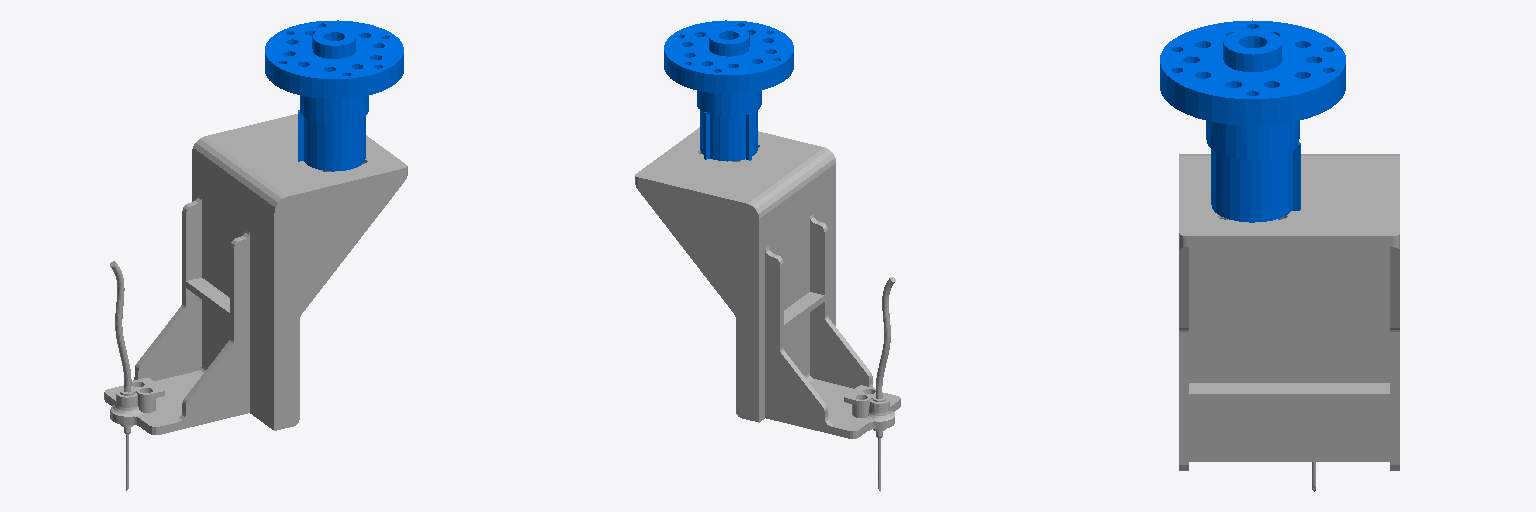
robot.urdf — Assy-Arm-R9:
<?xml version="1.0" encoding="utf-8"?>
<!-- This URDF was automatically created by SolidWorks to URDF Exporter! Originally created by [author] ([email redacted]) 
     Commit Version: 1.6.0-4-g7f85cfe  Build Version: 1.6.7995.38578
     For more information, please see http://wiki.ros.org/sw_urdf_exporter -->
<robot
  name="Assy-Arm-R9">
  <link
    name="Baselink">
    <inertial>
      <origin
        xyz="6.02984039890645E-05 -0.00347531736397777 0.0573590161221855"
        rpy="0 0 0" />
      <mass
        value="0.92291766365822" />
      <inertia
        ixx="0.000889355893817105"
        ixy="2.30285761501176E-06"
        ixz="-1.69735343493246E-06"
        iyy="0.000803534344884723"
        iyz="-7.28407364835707E-06"
        izz="0.000817894490834363" />
    </inertial>
    <visual>
      <origin
        xyz="0 0 0"
        rpy="0 0 0" />
      <geometry>
        <mesh
          filename="package://Assy-Arm-R9/meshes/Baselink.STL" />
      </geometry>
      <material
        name="">
        <color
          rgba="0.752941176470588 0.752941176470588 0.752941176470588 1" />
      </material>
    </visual>
    <collision>
      <origin
        xyz="0 0 0"
        rpy="0 0 0" />
      <geometry>
        <mesh
          filename="package://Assy-Arm-R9/meshes/Baselink.STL" />
      </geometry>
    </collision>
  </link>
  <link
    name="Link_1">
    <inertial>
      <origin
        xyz="-1.02244608118643E-06 0.00112007948225612 0.0204998303580782"
        rpy="0 0 0" />
      <mass
        value="0.382058624778773" />
      <inertia
        ixx="0.000349750409666344"
        ixy="4.3880466277339E-08"
        ixz="-1.566462590951E-08"
        iyy="0.000409993912478931"
        iyz="8.4435983743781E-07"
        izz="0.000385437259055181" />
    </inertial>
    <visual>
      <origin
        xyz="0 0 0"
        rpy="0 0 0" />
      <geometry>
        <mesh
          filename="package://Assy-Arm-R9/meshes/Link_1.STL" />
      </geometry>
      <material
        name="">
        <color
          rgba="0.752941176470588 0.752941176470588 0.752941176470588 1" />
      </material>
    </visual>
    <collision>
      <origin
        xyz="0 0 0"
        rpy="0 0 0" />
      <geometry>
        <mesh
          filename="package://Assy-Arm-R9/meshes/Link_1.STL" />
      </geometry>
    </collision>
  </link>
  <joint
    name="joint1"
    type="revolute">
    <origin
      xyz="0 0 0.118080000000464"
      rpy="0 0 0" />
    <parent
      link="Baselink" />
    <child
      link="Link_1" />
    <axis
      xyz="0 0 1" />
    <limit
      lower="-3.054"
      upper="3.054"
      effort="18"
      velocity="3.5" />
  </joint>
  <link
    name="Link2">
    <inertial>
      <origin
        xyz="-0.000854665968855167 0.0290011119842195 0.00276923551752536"
        rpy="0 0 0" />
      <mass
        value="1.26341938174547" />
      <inertia
        ixx="0.00253366296445769"
        ixy="-1.0594565225767E-05"
        ixz="3.52239486657366E-06"
        iyy="0.000863914704220155"
        iyz="1.99537985494069E-05"
        izz="0.00287591504435729" />
    </inertial>
    <visual>
      <origin
        xyz="0 0 0"
        rpy="0 0 0" />
      <geometry>
        <mesh
          filename="package://Assy-Arm-R9/meshes/Link2.STL" />
      </geometry>
      <material
        name="">
        <color
          rgba="0.752941176470588 0.752941176470588 0.752941176470588 1" />
      </material>
    </visual>
    <collision>
      <origin
        xyz="0 0 0"
        rpy="0 0 0" />
      <geometry>
        <mesh
          filename="package://Assy-Arm-R9/meshes/Link2.STL" />
      </geometry>
    </collision>
  </link>
  <joint
    name="Joint2"
    type="revolute">
    <origin
      xyz="0 0 0.0477999999999999"
      rpy="1.5707963267949 0 0" />
    <parent
      link="Link_1" />
    <child
      link="Link2" />
    <axis
      xyz="0 0 1" />
    <limit
      lower="-1.4835"
      upper="1.4835"
      effort="18"
      velocity="3.5" />
  </joint>
  <link
    name="Link3">
    <inertial>
      <origin
        xyz="0.0441755762110513 -0.00300061453468439 0.00125517691776518"
        rpy="0 0 0" />
      <mass
        value="1.79634044285213" />
      <inertia
        ixx="0.00131750270771557"
        ixy="0.00012630708992994"
        ixz="0.000110559022367037"
        iyy="0.00215743063076519"
        iyz="-2.63185424659225E-05"
        izz="0.00218419879727998" />
    </inertial>
    <visual>
      <origin
        xyz="0 0 0"
        rpy="0 0 0" />
      <geometry>
        <mesh
          filename="package://Assy-Arm-R9/meshes/Link3.STL" />
      </geometry>
      <material
        name="">
        <color
          rgba="0.752941176470588 0.752941176470588 0.752941176470588 1" />
      </material>
    </visual>
    <collision>
      <origin
        xyz="0 0 0"
        rpy="0 0 0" />
      <geometry>
        <mesh
          filename="package://Assy-Arm-R9/meshes/Link3.STL" />
      </geometry>
    </collision>
  </link>
  <joint
    name="joint3"
    type="revolute">
    <origin
      xyz="0 0.136682791981321 0"
      rpy="0 0 1.5707963267949" />
    <parent
      link="Link2" />
    <child
      link="Link3" />
    <axis
      xyz="0 0 1" />
    <limit
      lower="-1.2217"
      upper="2.0944"
      effort="18"
      velocity="3.5" />
  </joint>
  <link
    name="Link4">
    <inertial>
      <origin
        xyz="1.03025769054854E-06 -0.00112007725301299 0.020499830358078"
        rpy="0 0 0" />
      <mass
        value="0.382058624778772" />
      <inertia
        ixx="0.000349750409666343"
        ixy="4.38804662770973E-08"
        ixz="1.56674497381816E-08"
        iyy="0.000409993912478931"
        iyz="-8.44351800969626E-07"
        izz="0.000385437259055179" />
    </inertial>
    <visual>
      <origin
        xyz="0 0 0"
        rpy="0 0 0" />
      <geometry>
        <mesh
          filename="package://Assy-Arm-R9/meshes/Link4.STL" />
      </geometry>
      <material
        name="">
        <color
          rgba="0.752941176470588 0.752941176470588 0.752941176470588 1" />
      </material>
    </visual>
    <collision>
      <origin
        xyz="0 0 0"
        rpy="0 0 0" />
      <geometry>
        <mesh
          filename="package://Assy-Arm-R9/meshes/Link4.STL" />
      </geometry>
    </collision>
  </link>
  <joint
    name="Joint4"
    type="revolute">
    <origin
      xyz="0.0882999999999411 -0.0610999999999994 0"
      rpy="1.5707963267949 0 0" />
    <parent
      link="Link3" />
    <child
      link="Link4" />
    <axis
      xyz="0 0 1" />
    <limit
      lower="-3.0543"
      upper="3.0543"
      effort="18"
      velocity="3.5" />
  </joint>
  <link
    name="Link5">
    <inertial>
      <origin
        xyz="-0.00300061446036065 -0.044175576392248 0.00125517686079486"
        rpy="0 0 0" />
      <mass
        value="1.79634045496723" />
      <inertia
        ixx="0.00215743060668843"
        ixy="-0.000126307095721348"
        ixz="-2.63185334804151E-05"
        iyy="0.0013175027320031"
        iyz="-0.000110559009407506"
        izz="0.00218419879908848" />
    </inertial>
    <visual>
      <origin
        xyz="0 0 0"
        rpy="0 0 0" />
      <geometry>
        <mesh
          filename="package://Assy-Arm-R9/meshes/Link5.STL" />
      </geometry>
      <material
        name="">
        <color
          rgba="0.752941176470588 0.752941176470588 0.752941176470588 1" />
      </material>
    </visual>
    <collision>
      <origin
        xyz="0 0 0"
        rpy="0 0 0" />
      <geometry>
        <mesh
          filename="package://Assy-Arm-R9/meshes/Link5.STL" />
      </geometry>
    </collision>
  </link>
  <joint
    name="Joint5"
    type="revolute">
    <origin
      xyz="0 0 0.0478"
      rpy="-1.5708 0 0" />
    <parent
      link="Link4" />
    <child
      link="Link5" />
    <axis
      xyz="0 0 1" />
    <limit
      lower="-1.4835"
      upper="1.4835"
      effort="18"
      velocity="3.15" />
  </joint>
  <link
    name="Link6">
    <inertial>
      <origin
        xyz="-4.37465252269009E-05 8.58573912293254E-05 0.0212480282420243"
        rpy="0 0 0" />
      <mass
        value="0.0968639400304875" />
      <inertia
        ixx="1.41848026011587E-05"
        ixy="4.46246764635625E-16"
        ixz="3.55145625116609E-20"
        iyy="1.42612360613091E-05"
        iyz="5.14387944202092E-20"
        izz="1.00976973694868E-05" />
    </inertial>
    <visual>
      <origin
        xyz="0 0 0"
        rpy="0 0 0" />
      <geometry>
        <mesh
          filename="package://Assy-Arm-R9/meshes/Link6.STL" />
      </geometry>
      <material
        name="">
        <color
          rgba="0 0.501960784313725 1 1" />
      </material>
    </visual>
    <collision>
      <origin
        xyz="0 0 0"
        rpy="0 0 0" />
      <geometry>
        <mesh
          filename="package://Assy-Arm-R9/meshes/Link6.STL" />
      </geometry>
    </collision>
  </link>
  <joint
    name="joint6"
    type="revolute">
    <origin
      xyz="-0.0611 -0.0883 0"
      rpy="-1.5708 0 -1.5708" />
    <parent
      link="Link5" />
    <child
      link="Link6" />
    <axis
      xyz="0 0 1" />
    <limit
      lower="0"
      upper="6.28"
      effort="18"
      velocity="3.15" />
  </joint>
  <link
    name="End effector">
    <inertial>
      <origin
        xyz="0.034734444535006 -0.00374194889796029 0.0593600383669837"
        rpy="0 0 0" />
      <mass
        value="0.0212500714187753" />
      <inertia
        ixx="1.72298495867314E-05"
        ixy="3.31657284094707E-07"
        ixz="-5.31858512593139E-06"
        iyy="1.70489918204971E-05"
        iyz="5.55202018835356E-07"
        izz="8.64592251603619E-06" />
    </inertial>
    <visual>
      <origin
        xyz="0 0 0"
        rpy="0 0 0" />
      <geometry>
        <mesh
          filename="package://Assy-Arm-R9/meshes/End effector.STL" />
      </geometry>
      <material
        name="">
        <color
          rgba="0.752941176470588 0.752941176470588 0.752941176470588 1" />
      </material>
    </visual>
    <collision>
      <origin
        xyz="0 0 0"
        rpy="0 0 0" />
      <geometry>
        <mesh
          filename="package://Assy-Arm-R9/meshes/End effector.STL" />
      </geometry>
    </collision>
  </link>
  <joint
    name="Needle tip"
    type="fixed">
    <origin
      xyz="-0.05788 0.0125 -0.09155"
      rpy="0 0 0" />
    <parent
      link="Link6" />
    <child
      link="End effector" />
    <axis
      xyz="0 0 0" />
  </joint>
</robot>

--- Render facts (derived) ---
3 views of the same robot in one strip: view 1: azimuth 30°, elevation 25°; view 2: azimuth 150°, elevation 25°; view 3: azimuth 270°, elevation 25° (orthographic).
Model Assy-Arm-R9 with 8 links and 7 joints (6 revolute, 1 fixed), rooted at Baselink, posed all joints at 0.
Links seen in each view (by area): view 1: End effector, Link6; view 2: End effector, Link6; view 3: End effector, Link6.
Boxes of the visible links, left/top/right/bottom form: End effector: left=104, top=114, right=407, bottom=490; Link6: left=265, top=20, right=403, bottom=171; End effector: left=635, top=127, right=900, bottom=491; Link6: left=664, top=20, right=793, bottom=161; End effector: left=1179, top=154, right=1399, bottom=491; Link6: left=1160, top=20, right=1345, bottom=222.
Bounding box of the posed robot: 0.0822 × 0.049 × 0.1281 m (x, y, z).
Meshes: 8 distinct files referenced, 2 mesh visuals loaded (2 binary STL); not drawn: 6 (reference not matched to a file when rendering).